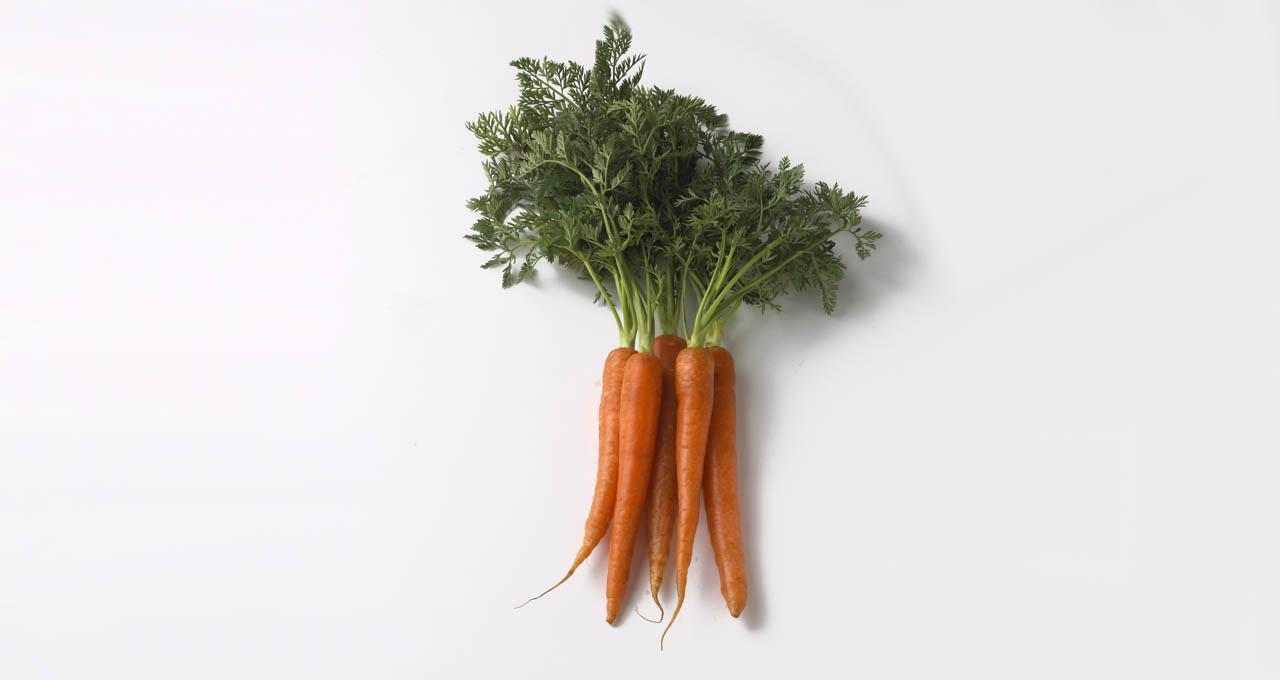carrot: (583, 329, 754, 639), (617, 352, 711, 612)
